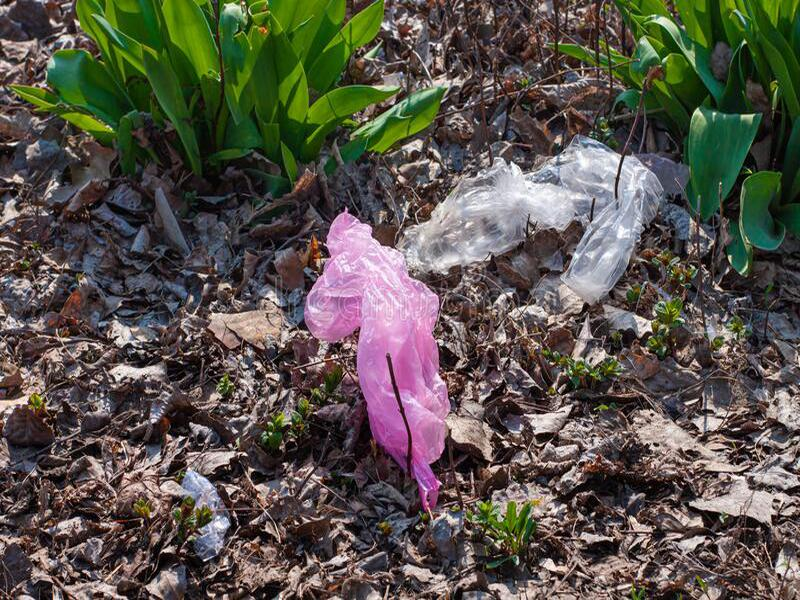plastic: (397, 128, 677, 314), (297, 205, 451, 514)
